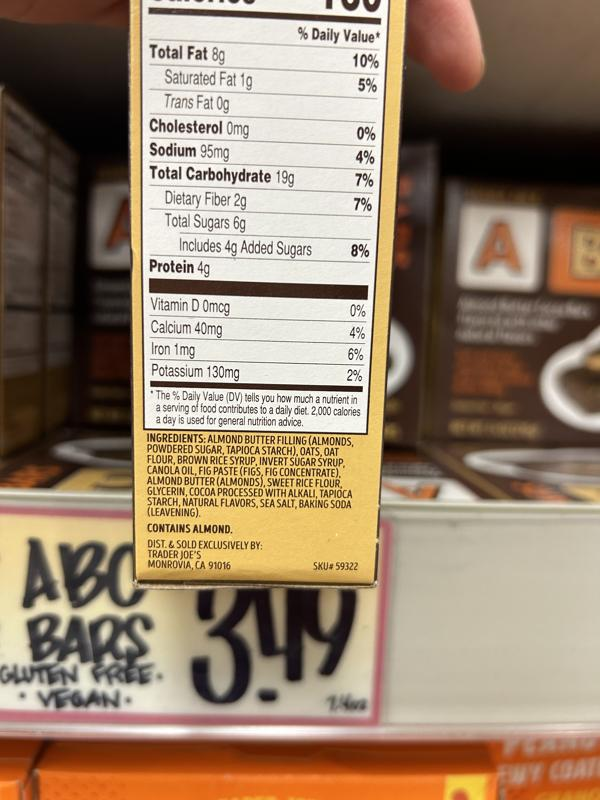ingredients: (145, 433, 354, 518)
